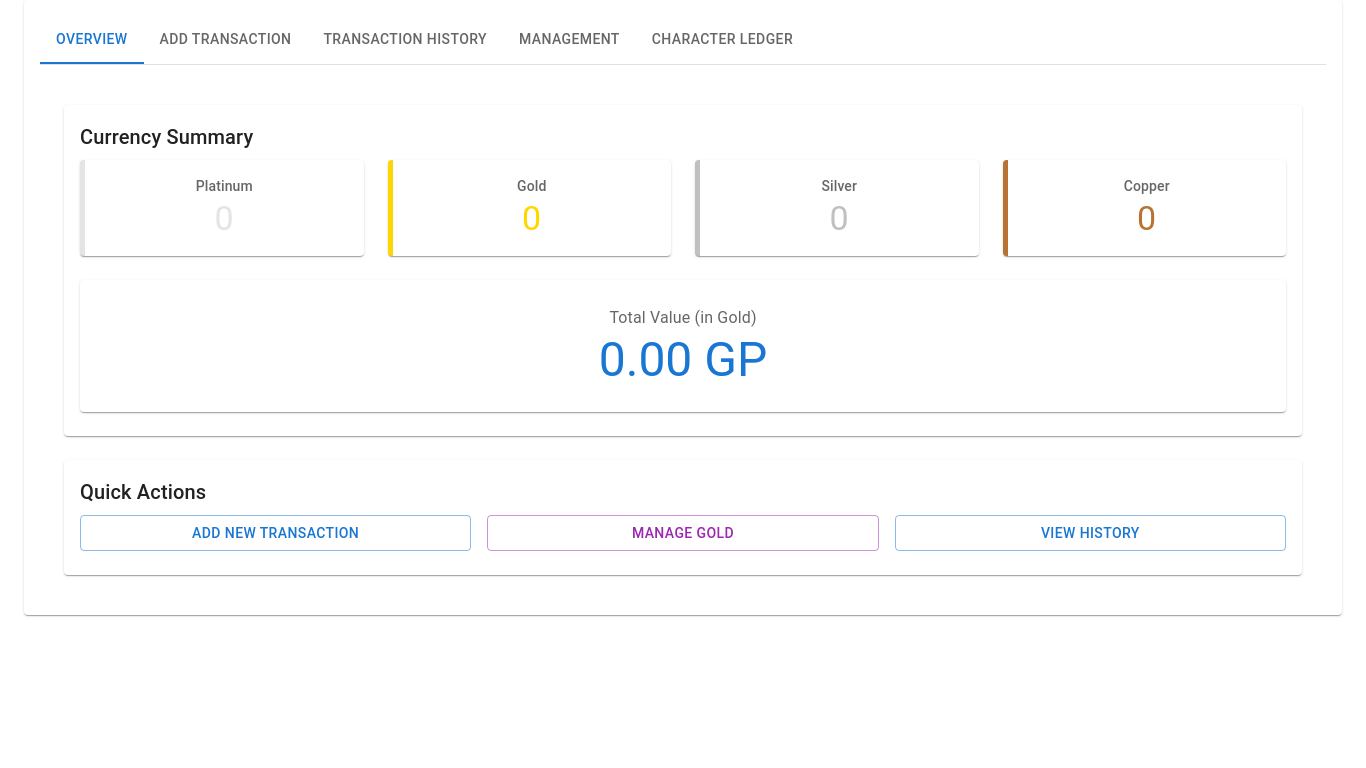
Test case: GoldTransactions › Management tab › hides Balance Currencies from non-DMs (campaign role)
The image size is (1366, 768).
Click the tab "Management" at [569, 40], box 503,16 -> 636,64
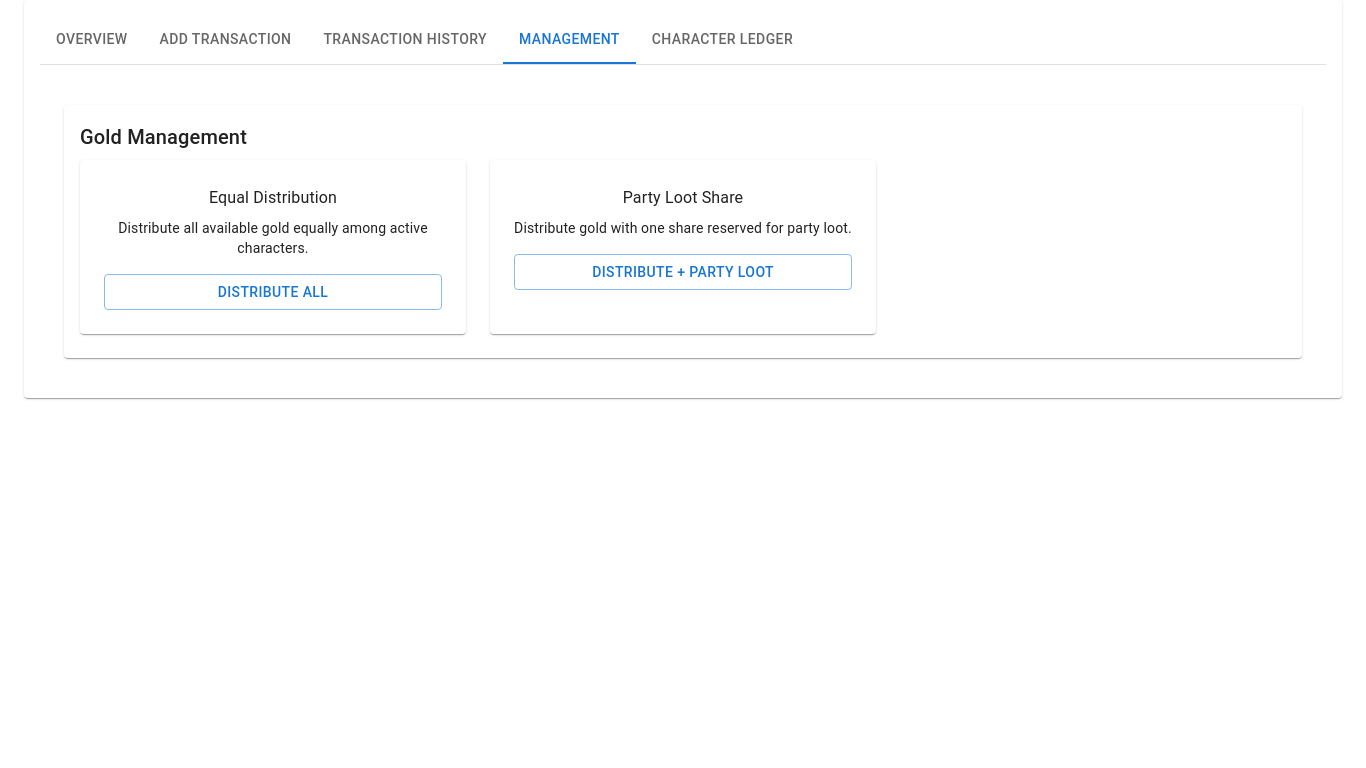
Expected: the heading "Gold Management" is shown, 80,125 -> 247,149
